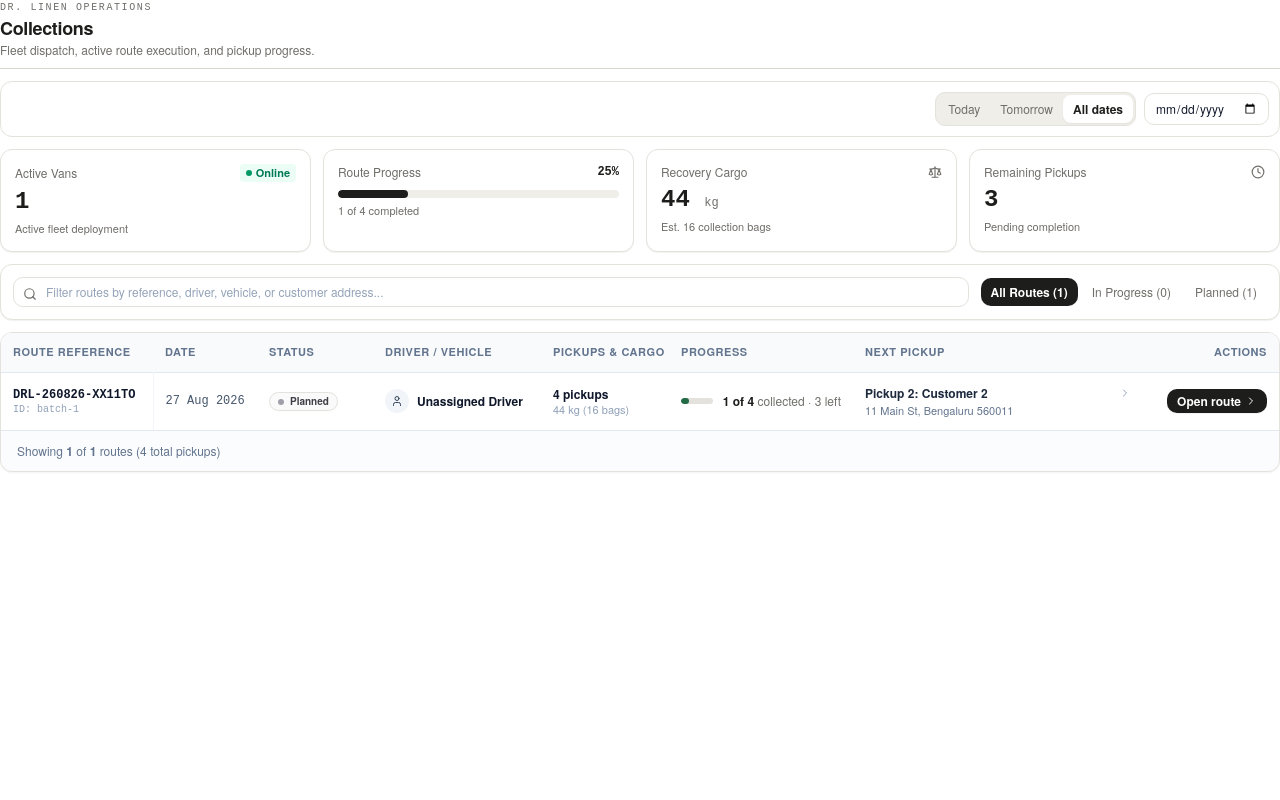
Test: TextileDispatchPage › keeps trip counts on the board but hides them in the route drawer
The width and height of the screenshot is (1280, 800).
Open the route details side panel.
Click the text "DRL-260826-XX11TO": point(77, 395) left=13, top=387, right=140, bottom=403
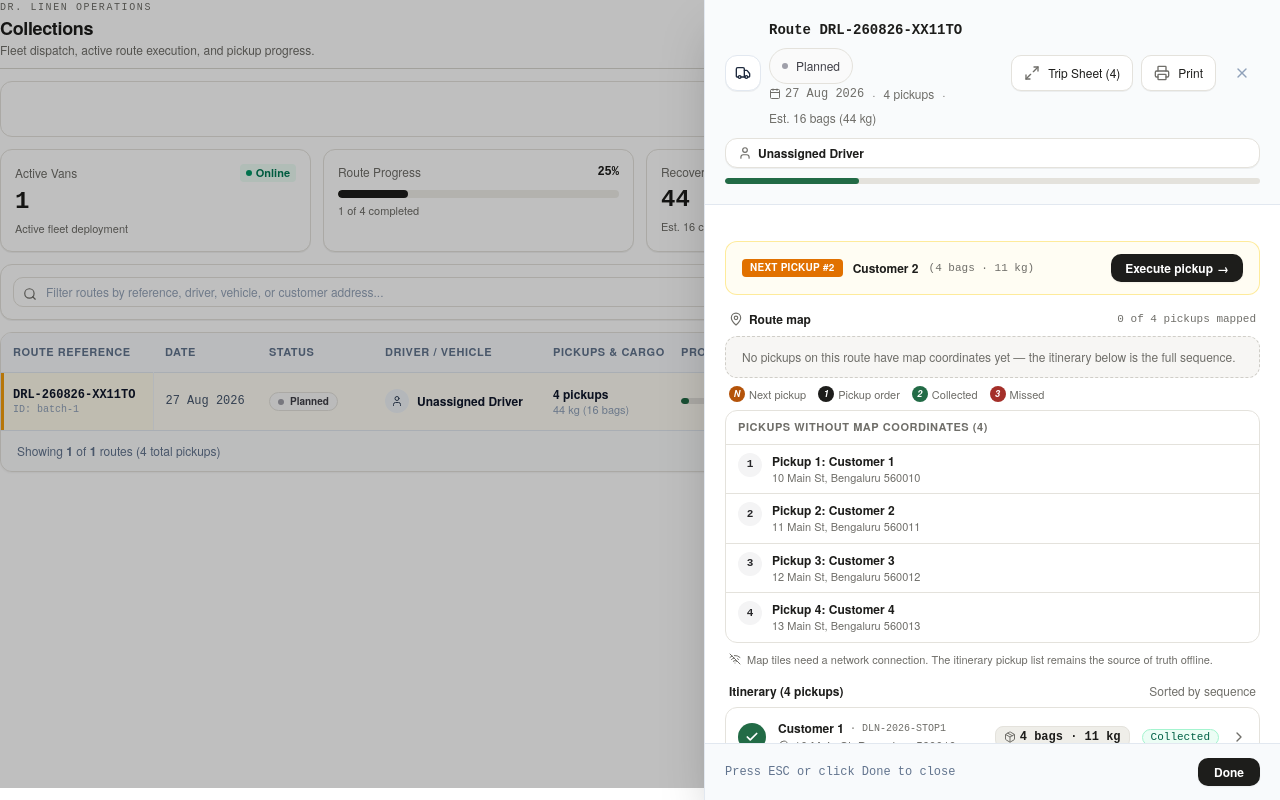
expect the progress indicator is shown: met, box left=725, top=178, right=859, bottom=184
